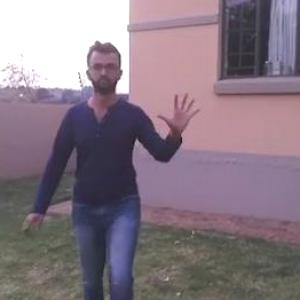follow_hand: (156, 87, 205, 134)
